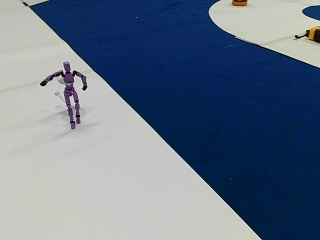pedestrian: (40, 62, 88, 127)
